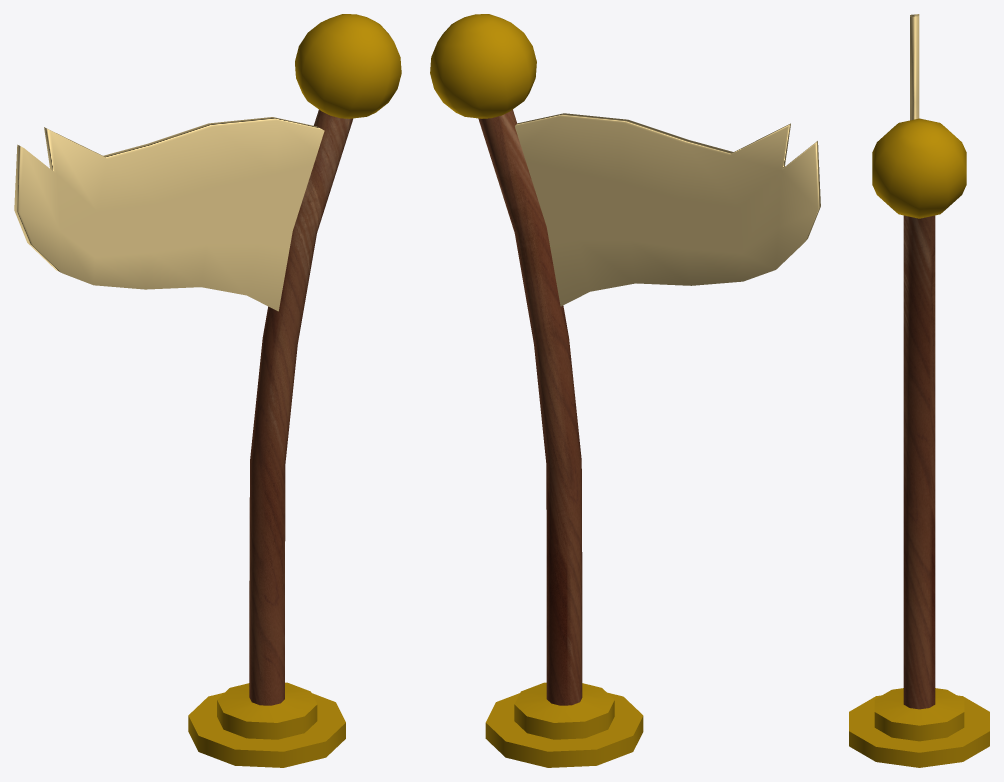
The model's file is Flag.fbx.
3 renders of one model, left to right at view 1: azimuth 30°, elevation 25°; view 2: azimuth 150°, elevation 25°; view 3: azimuth 270°, elevation 25°, orthographic. The views are drawn at different scales.
Parts seen in each view (by area): view 1: Flag; view 2: Flag; view 3: Flag.
Boxes of the visible parts, box(x1,y1,x2,y2) form: Flag: box(14, 14, 401, 767); Flag: box(430, 14, 820, 767); Flag: box(849, 14, 989, 767).
Bounding box in the file's own units: 163 × 285 × 56.02.
